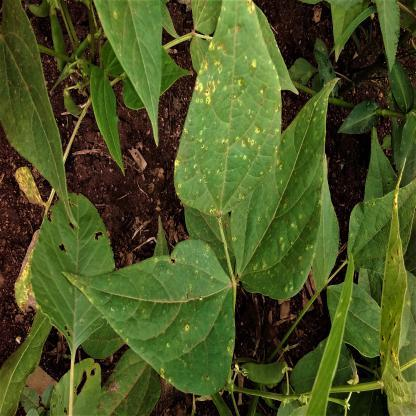Beans_Rust: (64, 232, 237, 394), (226, 78, 332, 304), (177, 2, 282, 212), (89, 0, 171, 132), (381, 162, 410, 392)
